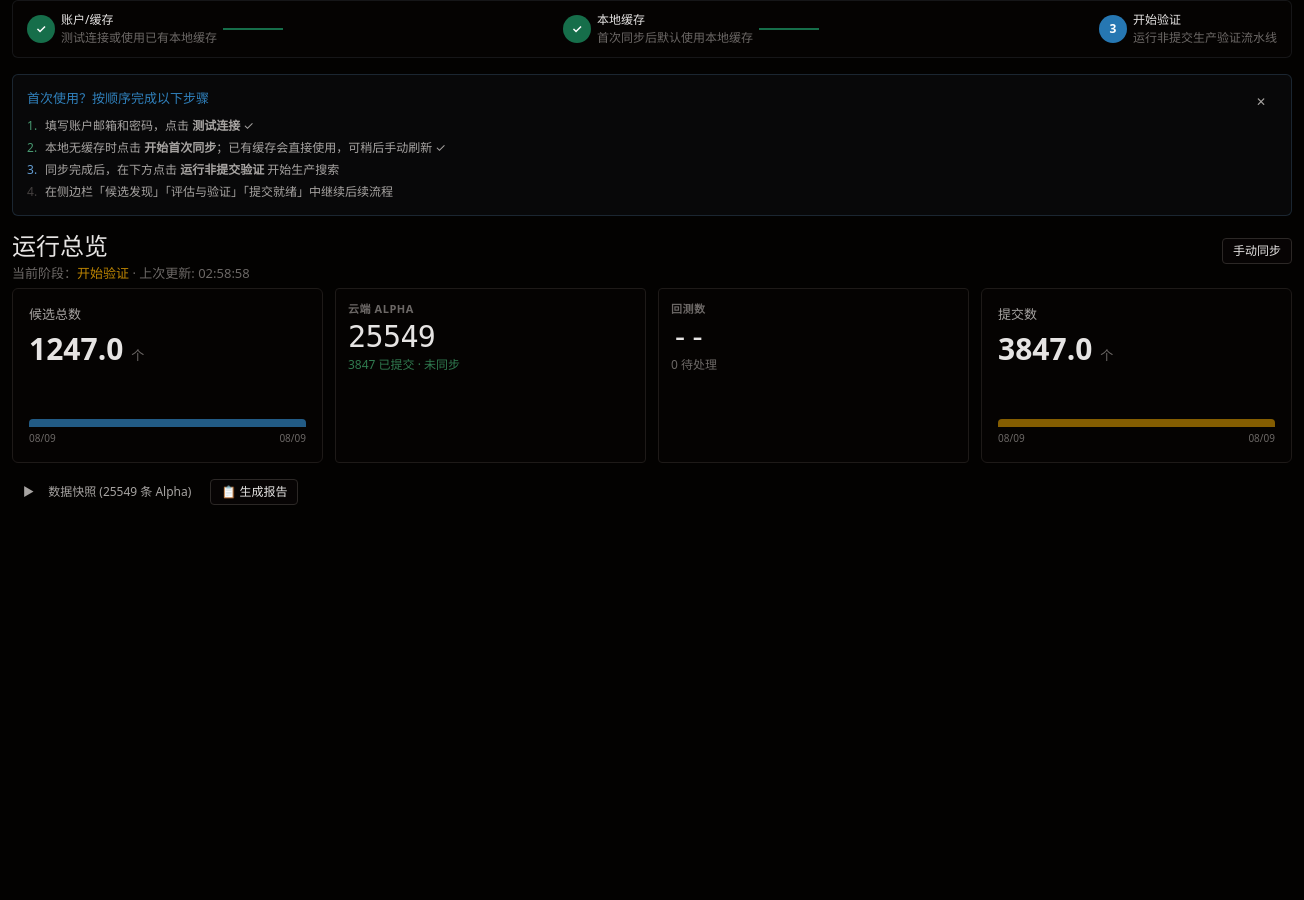
Dashboard 流程集成测试 › 测试趋势图表 - 数据快照展开按钮
Expected: the heading "运行总览" is shown, [12,228,108,262]
Click the button "▶ 数据快照 (25549 条 Alpha)" at [107, 492], box [12,479,202,505]
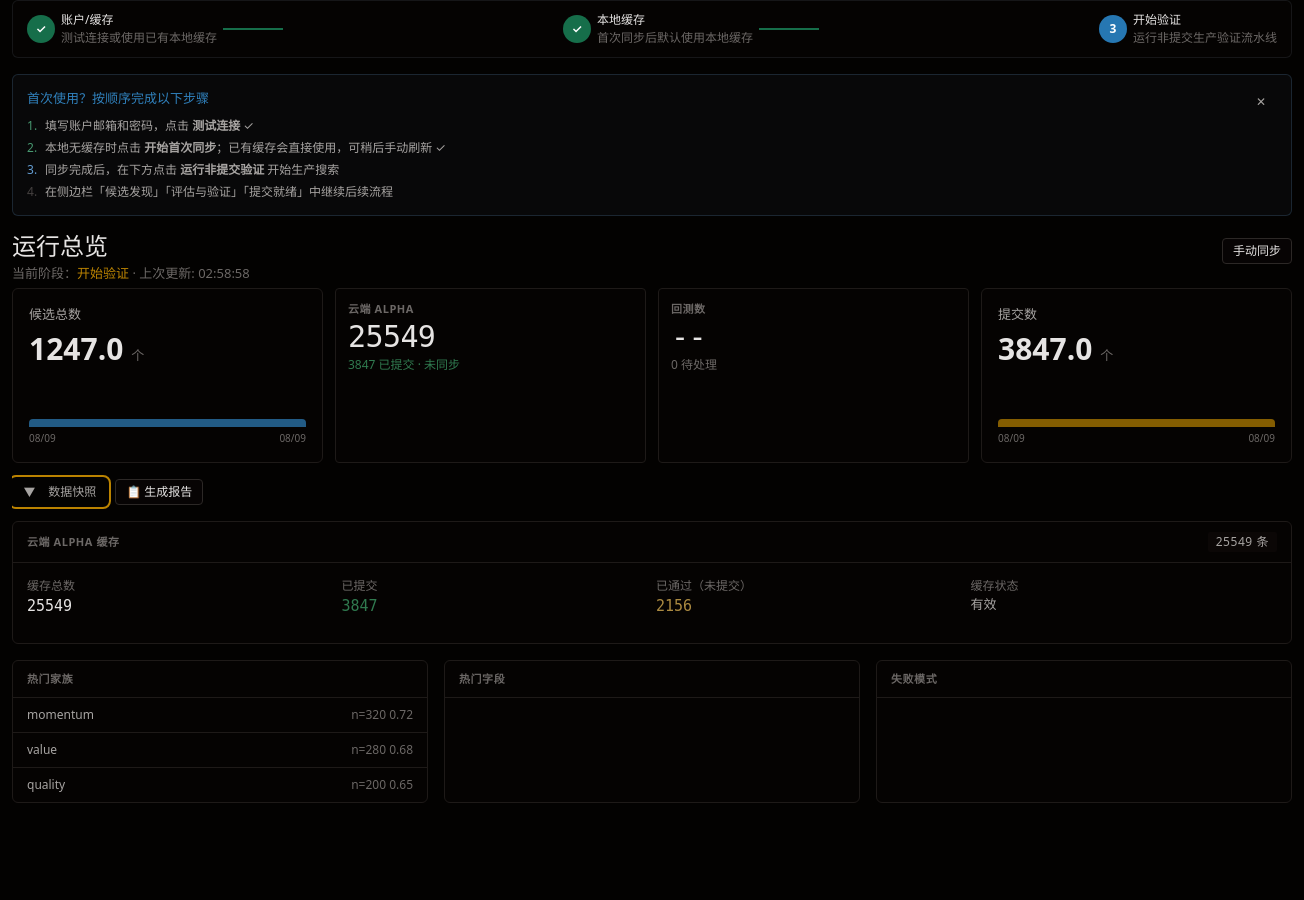
Expected: the button "▶ 数据快照" is expanded, [12,479,107,505]
